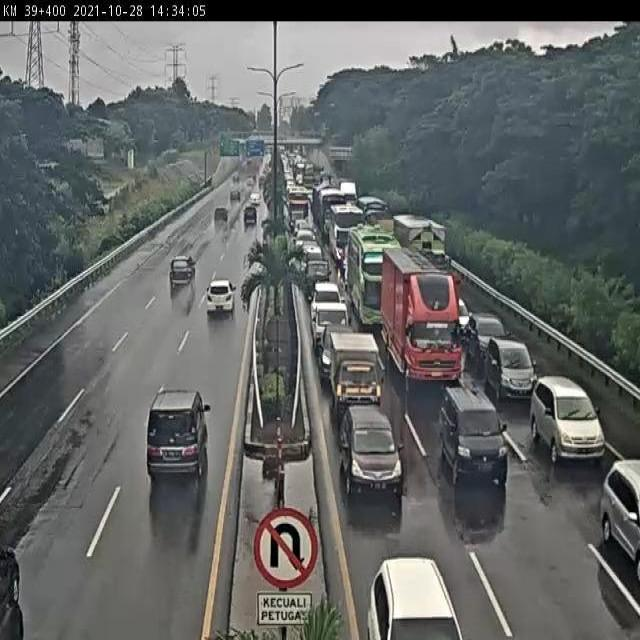bus-l-: (348, 228, 401, 329), (322, 202, 362, 258)
car: (529, 364, 604, 461), (335, 406, 403, 502), (438, 386, 505, 482), (146, 388, 210, 481), (322, 328, 384, 405), (488, 339, 533, 401), (309, 296, 350, 352), (466, 313, 508, 360), (204, 278, 238, 318), (298, 258, 330, 298), (447, 293, 470, 335), (296, 238, 320, 266), (312, 278, 340, 302), (294, 222, 312, 242)
truck-l-: (380, 247, 459, 393), (392, 212, 456, 284)
